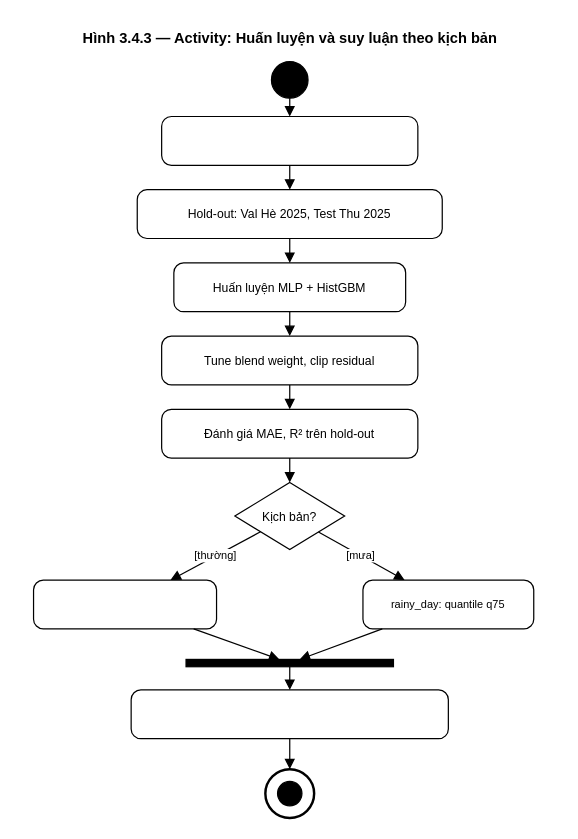
Image size: 578x839. Some labels were removed from this diagram. The shapes that lost their labels are listed below. From the top down, each one's centre as x and y in pixels, then its label:
At [289,140]: "Chia 8-fold CV theo mùa–năm".
At [124,604]: "weekday_peak / weekend: blend".
At [289,714]: "Projection → tối ưu → lịch kịch bản".
